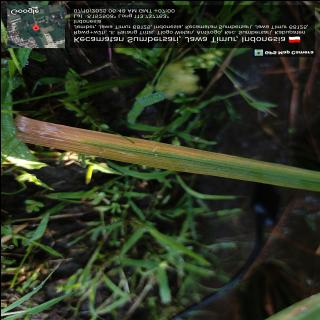Hawar-Daun: (17, 116, 231, 173)
